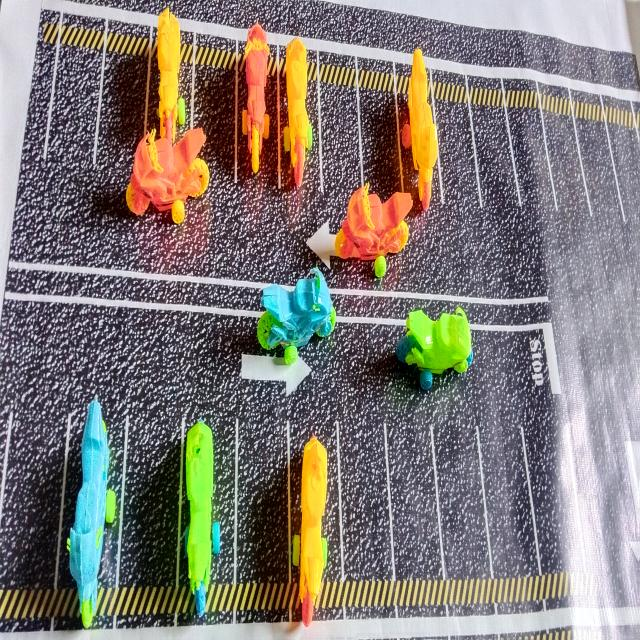bikes: (126, 111, 209, 214), (257, 268, 335, 364), (335, 183, 413, 278), (396, 307, 472, 390)
occupied: (55, 398, 122, 627), (176, 414, 237, 615), (291, 429, 341, 626), (395, 47, 444, 210), (236, 23, 282, 189), (146, 8, 193, 142), (280, 38, 318, 188)
slots: (0, 405, 67, 587), (119, 413, 181, 586), (523, 403, 582, 573), (434, 420, 490, 577), (237, 410, 288, 582), (479, 420, 535, 576), (387, 422, 442, 579), (47, 46, 103, 190), (340, 424, 392, 579), (100, 57, 147, 172), (576, 120, 627, 222), (508, 108, 556, 214), (471, 106, 518, 214), (435, 99, 481, 209), (544, 111, 591, 218), (320, 83, 360, 207), (195, 69, 235, 179), (361, 92, 400, 199), (610, 125, 640, 232), (628, 235, 640, 258)
